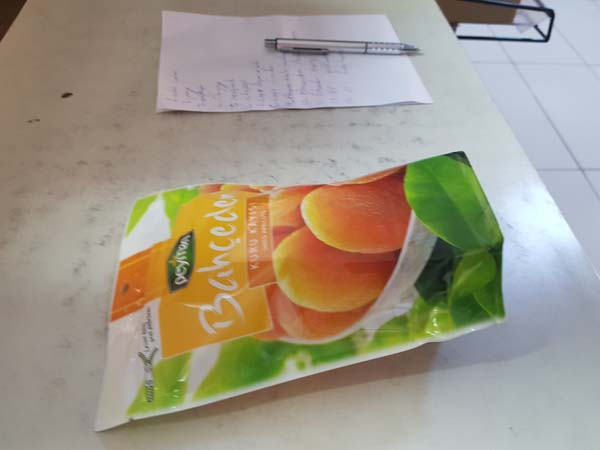bahcedenkurukayisi: (100, 145, 510, 434)
